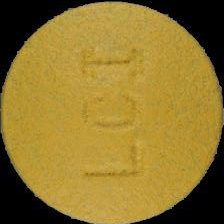61919-299: (0, 0, 224, 224)
